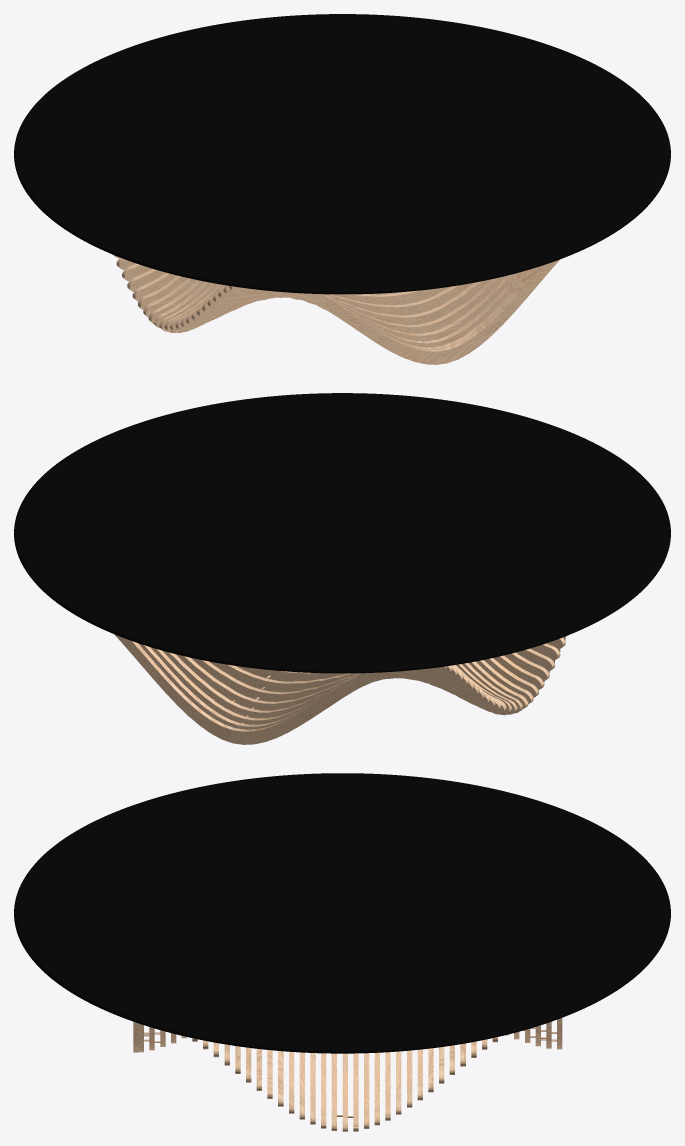
File: table.fbx
3 renders of one model, top to bottom at view 1: azimuth 30°, elevation 25°; view 2: azimuth 150°, elevation 25°; view 3: azimuth 270°, elevation 25°, orthographic.
Parts seen in each view (by area): view 1: Object_6, Object_5; view 2: Object_6, Object_5; view 3: Object_6, Object_5.
Boxes of the visible parts, <box> form: Object_6: <box>14,14,670,294</box>; Object_5: <box>112,254,559,364</box>; Object_6: <box>14,393,670,673</box>; Object_5: <box>114,634,566,744</box>; Object_6: <box>14,773,670,1053</box>; Object_5: <box>133,1018,562,1131</box>.
Bounding box in the file's own units: 27.63 × 27.63 × 6.26.
Materials: 3 (2 with a texture image).
